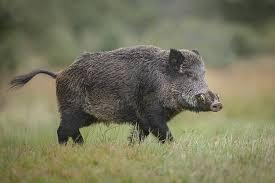wildboar: (4, 42, 226, 146)
